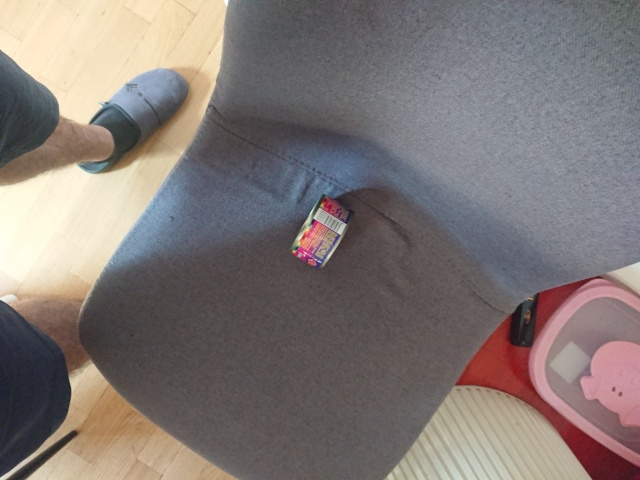Giana Tuna Salad Mexico 185g: (288, 188, 356, 273)
